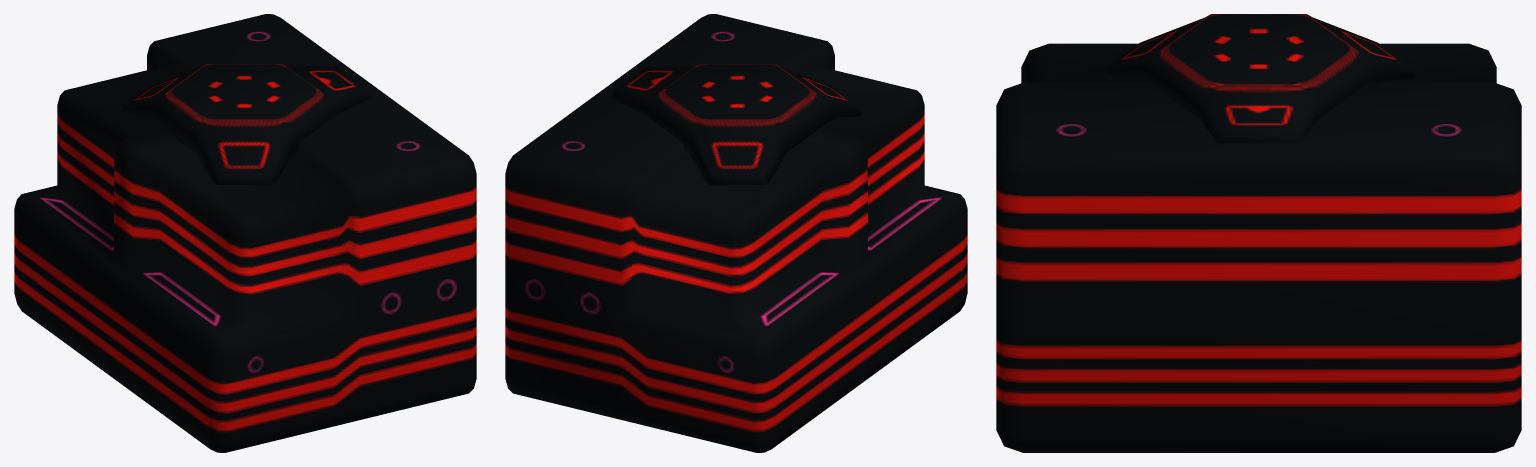
Rendered from TWeaponContainer.fbx.
The picture shows the model from 3 angles, left to right: view 1: azimuth 30°, elevation 25°; view 2: azimuth 150°, elevation 25°; view 3: azimuth 270°, elevation 25°; orthographic projection. The views are drawn at different scales.
Parts seen in each view (by area): view 1: TWeaponContainer; view 2: TWeaponContainer; view 3: TWeaponContainer.
Boxes of the visible parts, <box> form: TWeaponContainer: <box>14,14,476,452</box>; TWeaponContainer: <box>505,14,967,452</box>; TWeaponContainer: <box>996,14,1521,452</box>.
Size of the model in its own units: 117 by 111 by 161.
